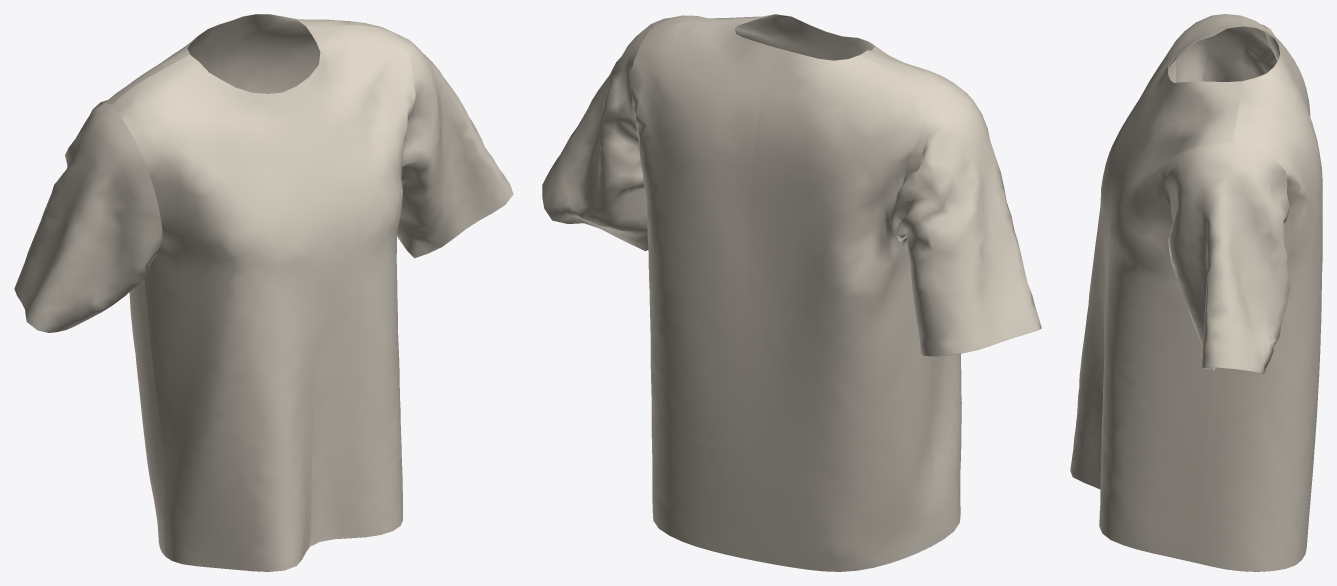
Rendered from tshirt_base.glb.
3 views of the same model, side by side, from view 1: azimuth 30°, elevation 25°; view 2: azimuth 150°, elevation 25°; view 3: azimuth 270°, elevation 25° (orthographic). The views are drawn at different scales.
Parts seen in each view (by area): view 1: tissu_corps; view 2: tissu_corps; view 3: tissu_corps.
Boxes of the visible parts, left/top/right/bottom form: tissu_corps: left=14, top=14, right=513, bottom=571; tissu_corps: left=542, top=14, right=1041, bottom=571; tissu_corps: left=1070, top=14, right=1322, bottom=571.
Bounding box in the file's own units: 0.636 × 0.62 × 0.2992.
